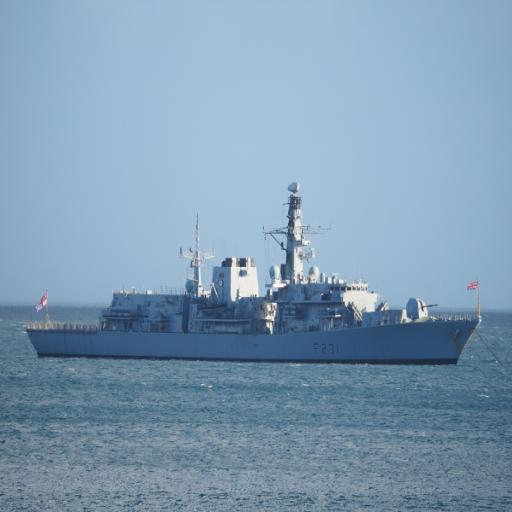Fragata: (25, 172, 484, 369)
